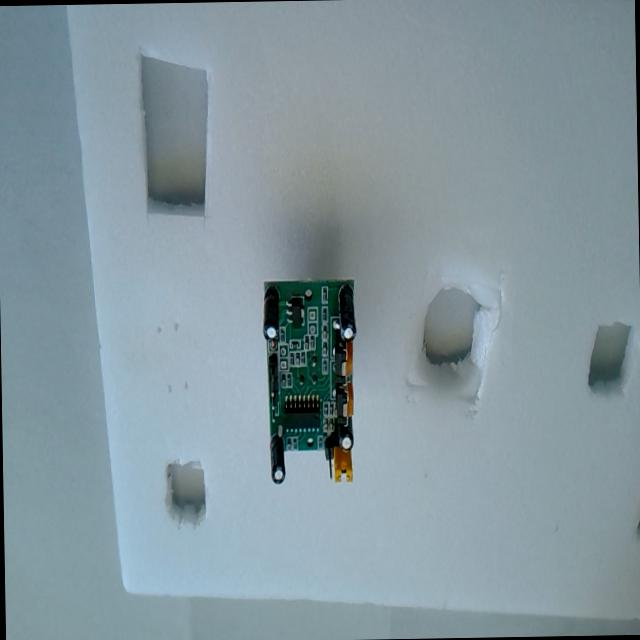Electrolytic capacitor: (336, 270, 358, 336), (258, 278, 280, 342), (264, 424, 284, 486)
IC: (280, 392, 320, 440)
